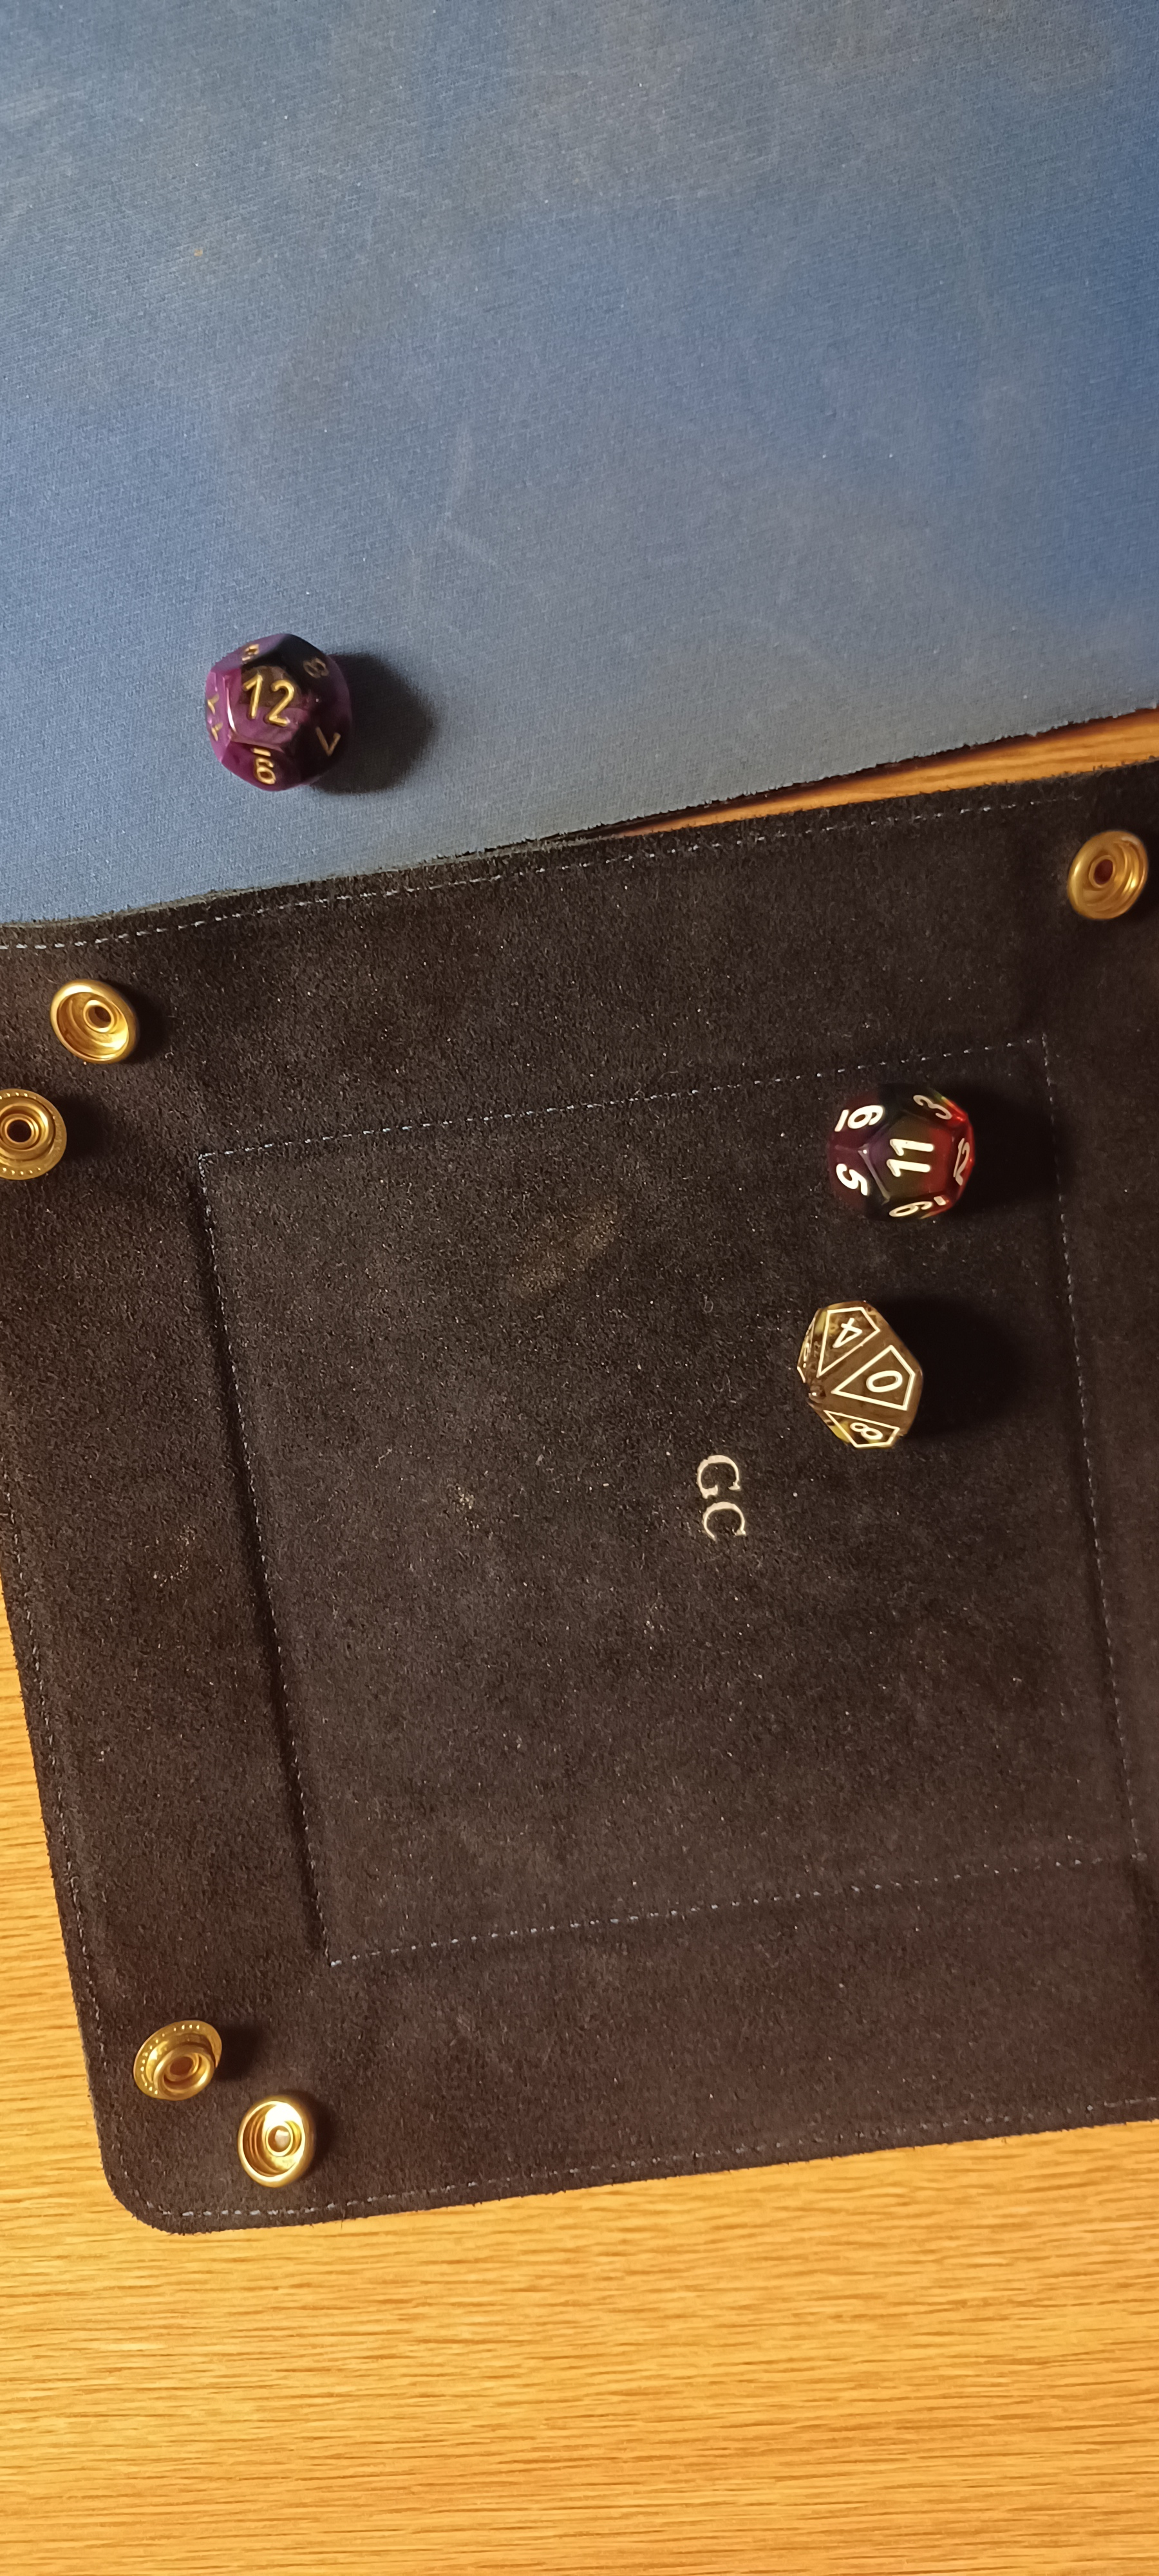eleven: (796, 1058, 1003, 1237)
twelve: (146, 618, 396, 808)
zero: (749, 1270, 983, 1492)
